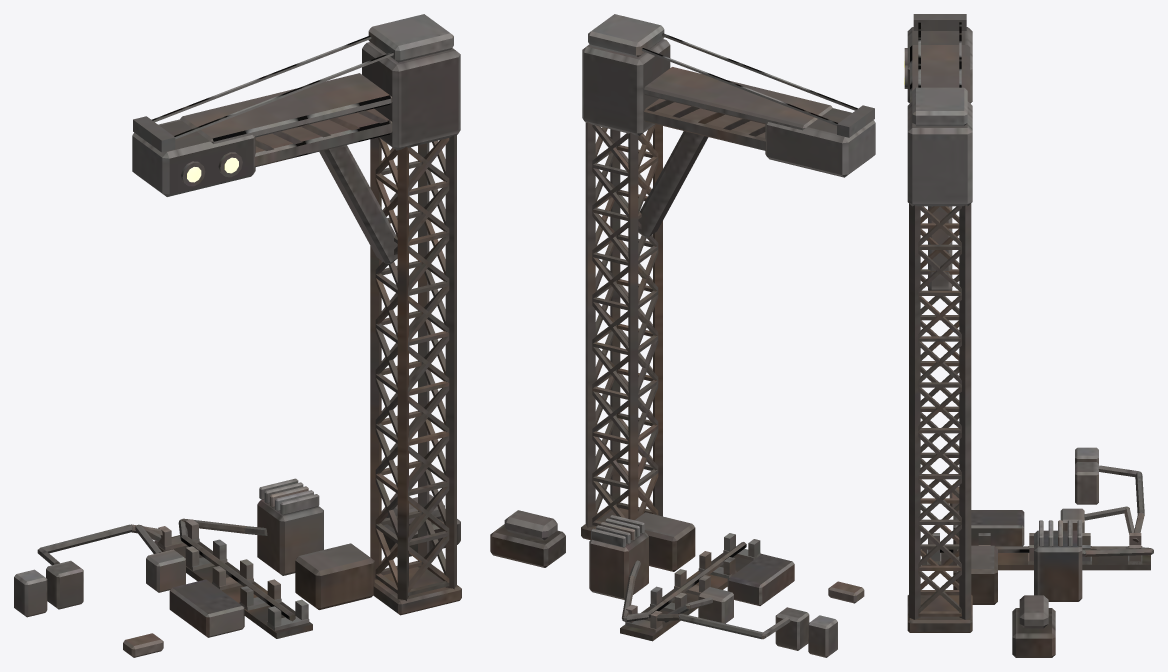
File: train-stop.glb
3 views of the same model, side by side, from view 1: azimuth 30°, elevation 25°; view 2: azimuth 150°, elevation 25°; view 3: azimuth 270°, elevation 25° (orthographic). The views are drawn at different scales.
Parts seen in each view (by area): view 1: body; view 2: body; view 3: body.
Part boxes in pixels (<box>): body: <box>14,14,461,657</box>; body: <box>490,14,875,657</box>; body: <box>904,14,1153,657</box>.
Size of the model in its own units: 3.54 by 4.76 by 2.08.
Materials: 2 (2 with a texture image).
